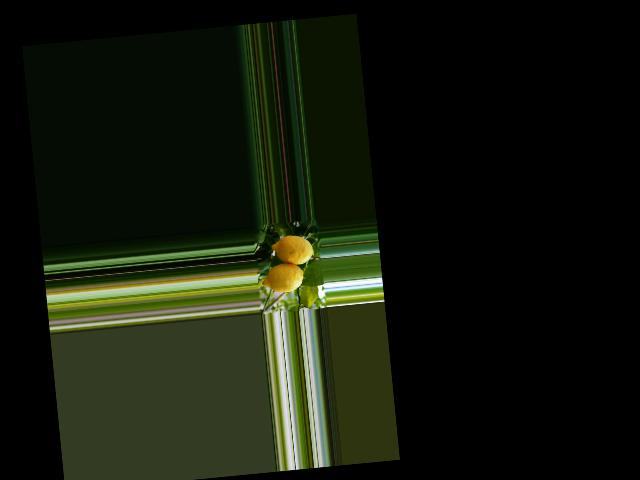lemon: (261, 259, 308, 297)
